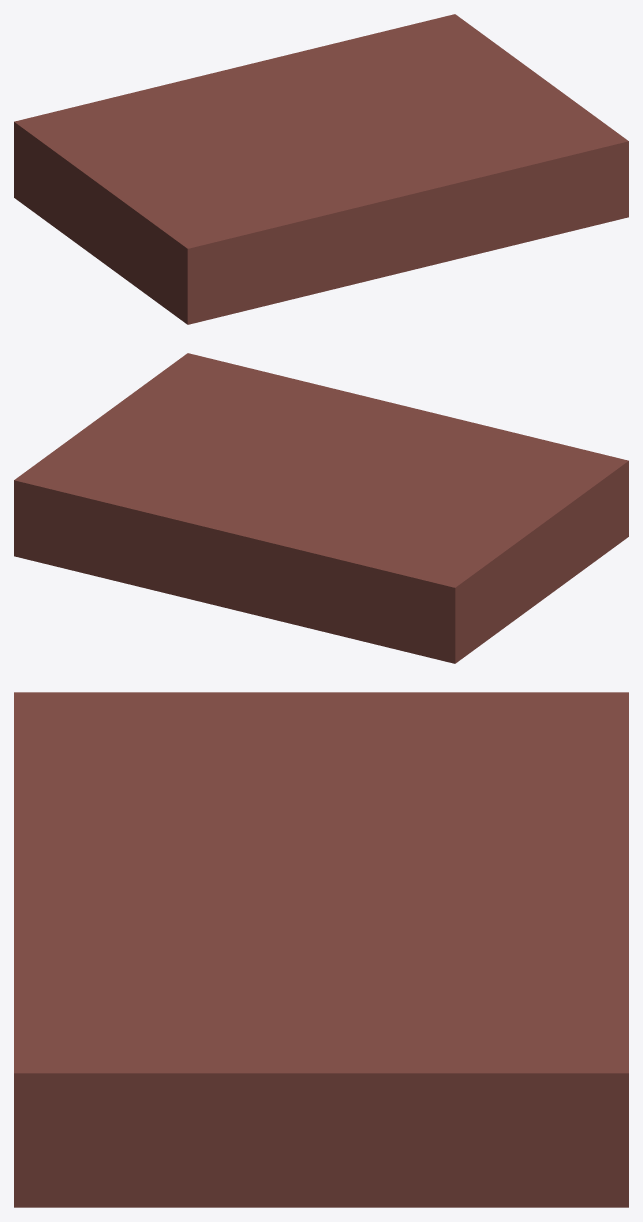
The model's file is book.glb.
The picture shows the model from 3 angles, top to bottom: view 1: azimuth 30°, elevation 25°; view 2: azimuth 150°, elevation 25°; view 3: azimuth 270°, elevation 25°; orthographic projection. The views are drawn at different scales.
Visible parts, largest first — view 1: book; view 2: book; view 3: book.
Boxes of the visible parts, x1,y1,x2,y2 form: book: (14, 14, 628, 324); book: (14, 353, 628, 663); book: (14, 692, 628, 1207).
Bounding box in the file's own units: 0.85 × 0.14 × 0.58.
